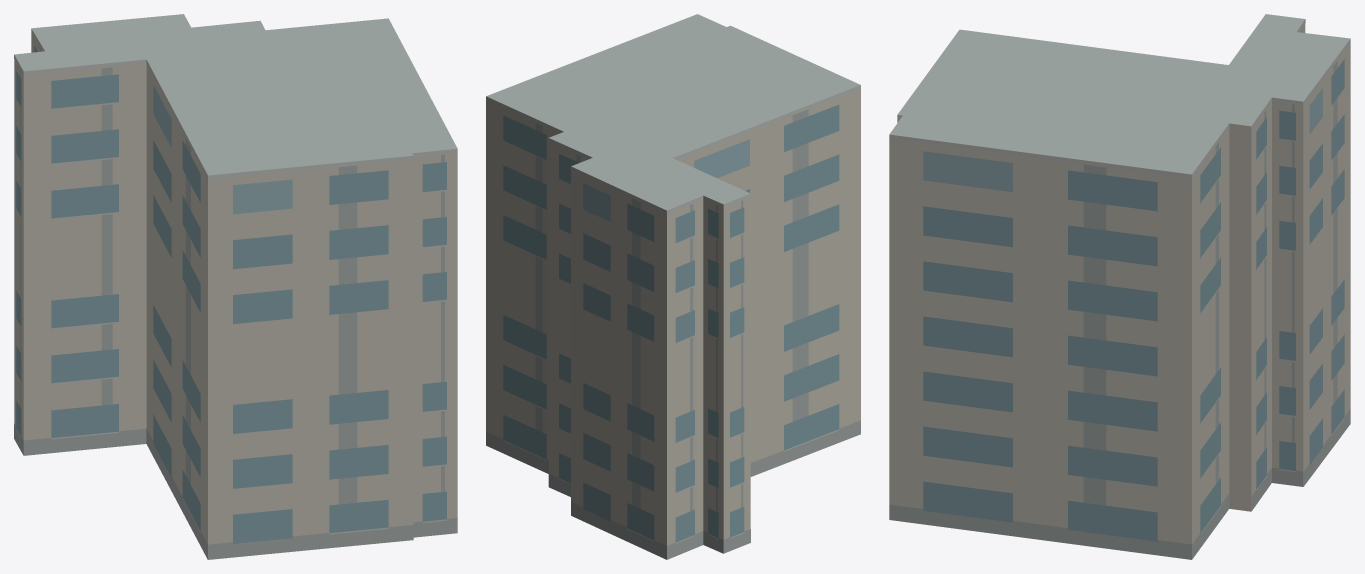
File: survey-upis-32869488.glb
The picture shows the model from 3 angles, left to right: view 1: azimuth 30°, elevation 25°; view 2: azimuth 150°, elevation 25°; view 3: azimuth 270°, elevation 25°; orthographic projection. The views are drawn at different scales.
Visible parts, largest first — view 1: survey-upis-32869488.tmp; view 2: survey-upis-32869488.tmp; view 3: survey-upis-32869488.tmp.
Boxes of the visible parts, x1,y1,x2,y2 form: survey-upis-32869488.tmp: (14,14,457,559); survey-upis-32869488.tmp: (486,14,860,559); survey-upis-32869488.tmp: (889,14,1350,559).
Bounding box in the file's own units: 19.08 × 21.35 × 23.17.
